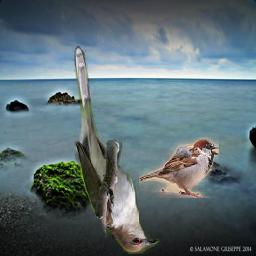Cuckoo: (74, 46, 160, 254)
Sparrow: (139, 138, 219, 199)
